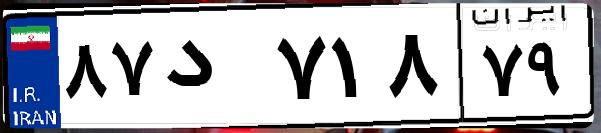1: (330, 28, 385, 110)
7: (270, 28, 330, 110), (475, 38, 525, 113), (110, 28, 158, 98)
8: (385, 28, 445, 110), (57, 26, 110, 100)
9: (525, 38, 570, 115)
د: (158, 20, 270, 120)
